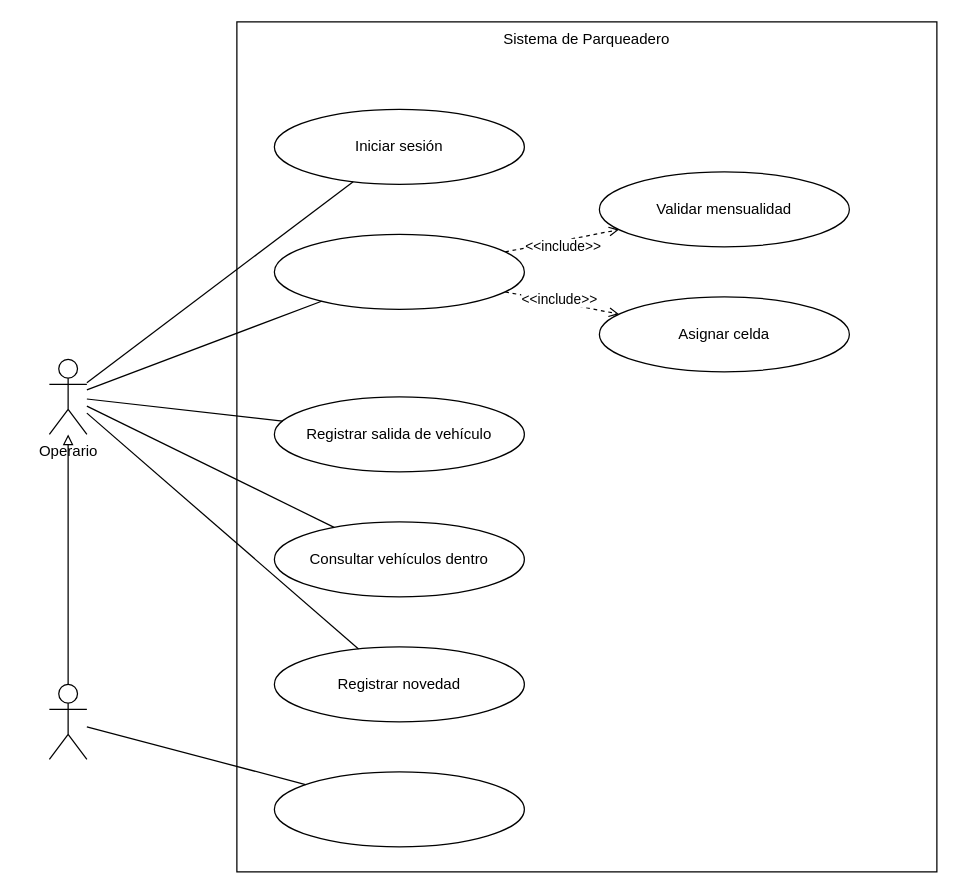
The diagram is 959 pixels wide and 894 high, and some of its shapes have lost their labels. Each missing label, with the centre of its shape:
"Administrador" goes at pixel 67 721.
"Consultar historial" goes at pixel 398 809.
"Registrar entrada de vehículo" goes at pixel 398 271.
